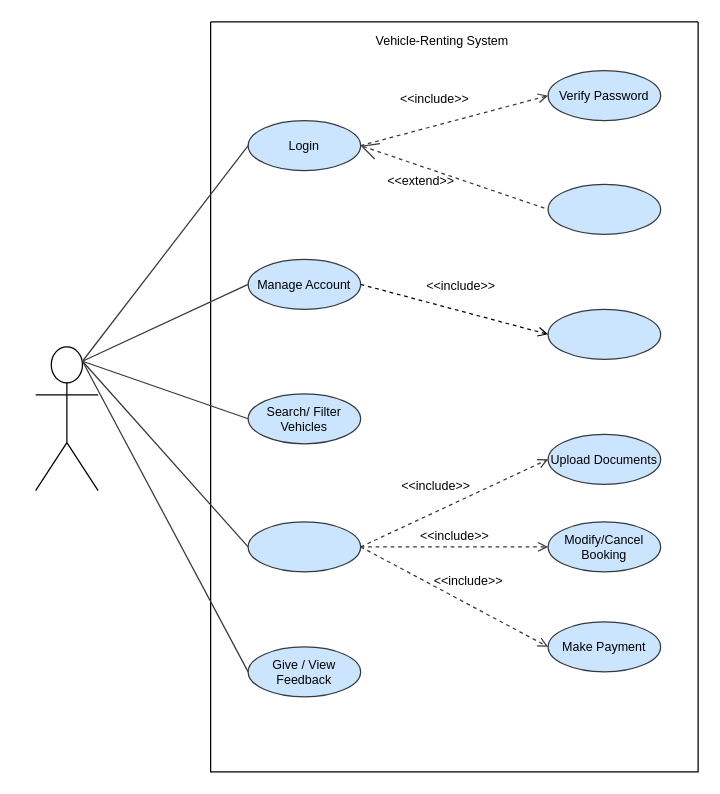
Some shapes in this 720 by 794 pixel diagram are drawn without their labels. The box of each missing label's shape, as (x1, y1, x2, y2) in pixels:
Book vehicles: (247, 521, 361, 572)
Login Error: (547, 183, 661, 234)
Registered User: (34, 346, 98, 491)
Update profile: (547, 308, 661, 359)
